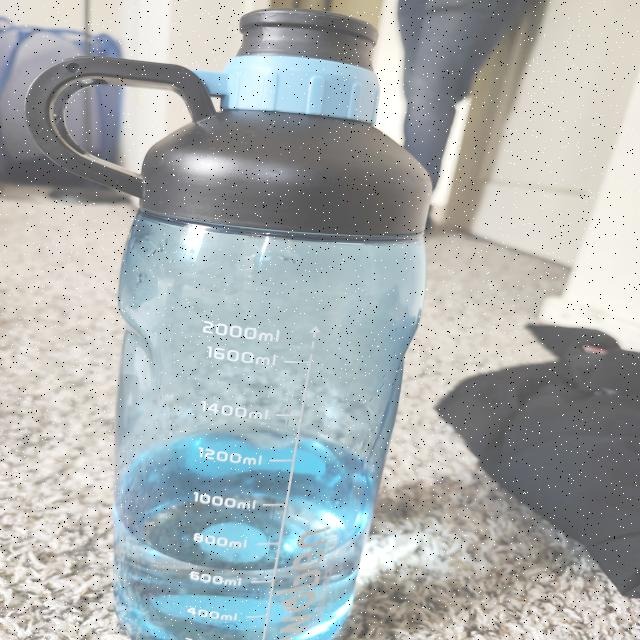bottle: (36, 11, 426, 640)
